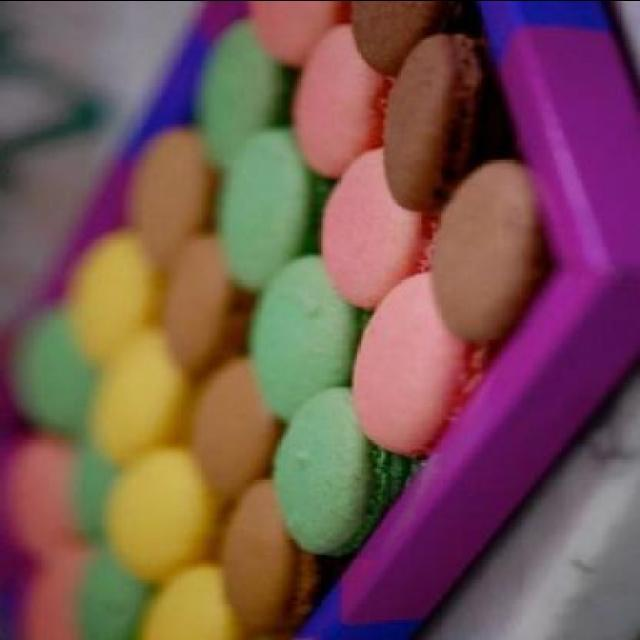Macaron: (14, 0, 560, 638)
